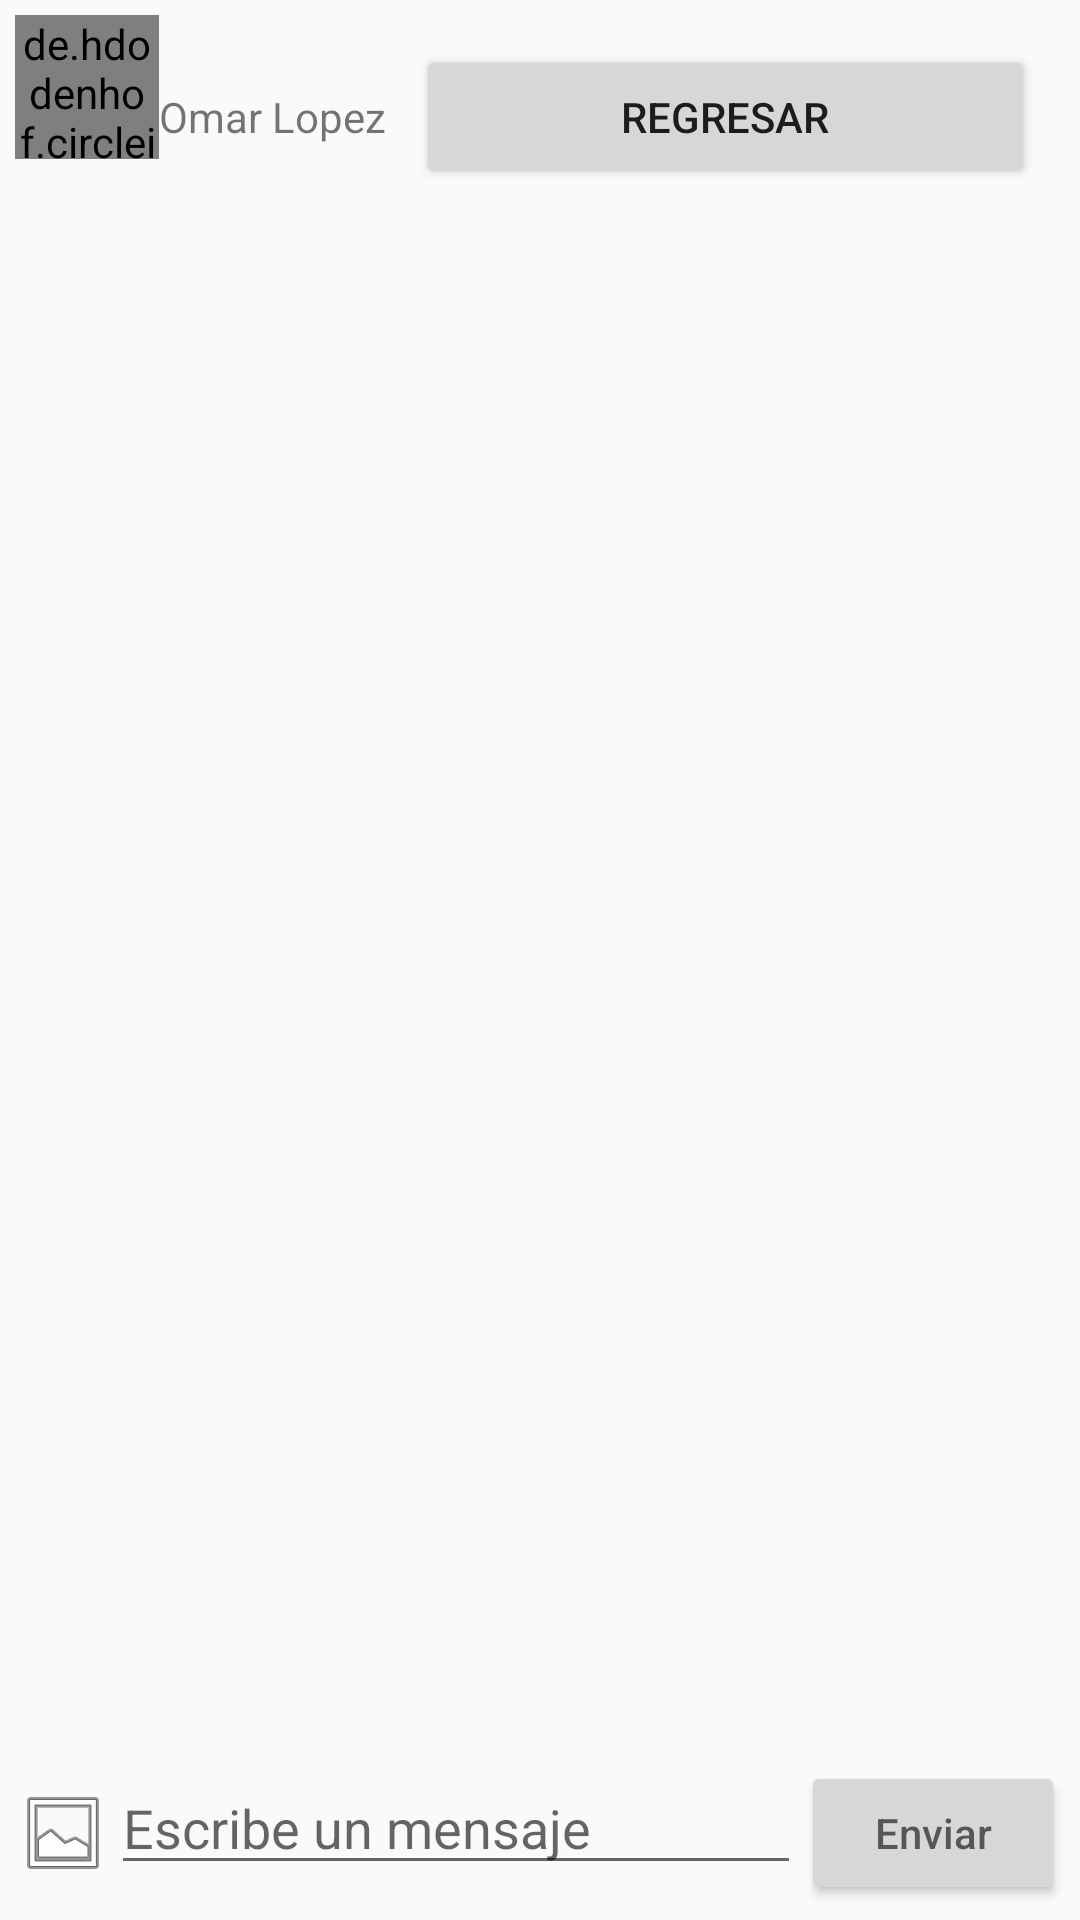

Named icons in this screenshot (1080×1920) and their centers, (x=x, y=y):
gallery: (x=63, y=1833)
